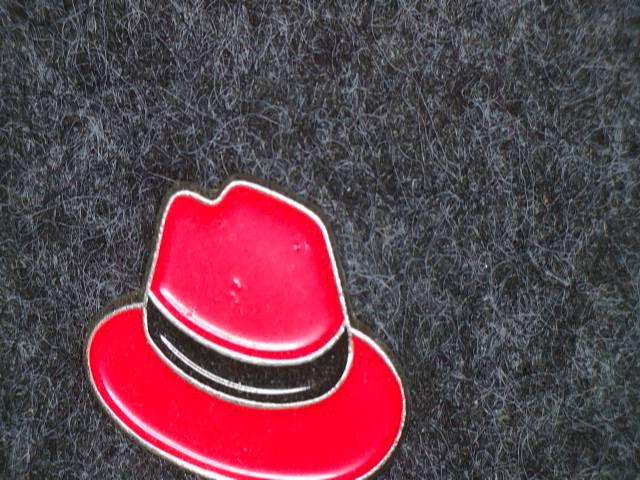Red-Hat: (52, 164, 446, 480)
